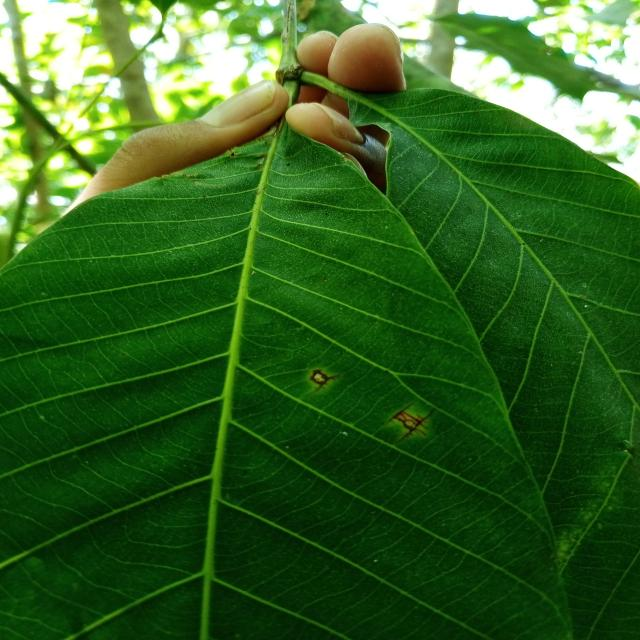Corynespora: (387, 402, 435, 444), (306, 369, 341, 395)
